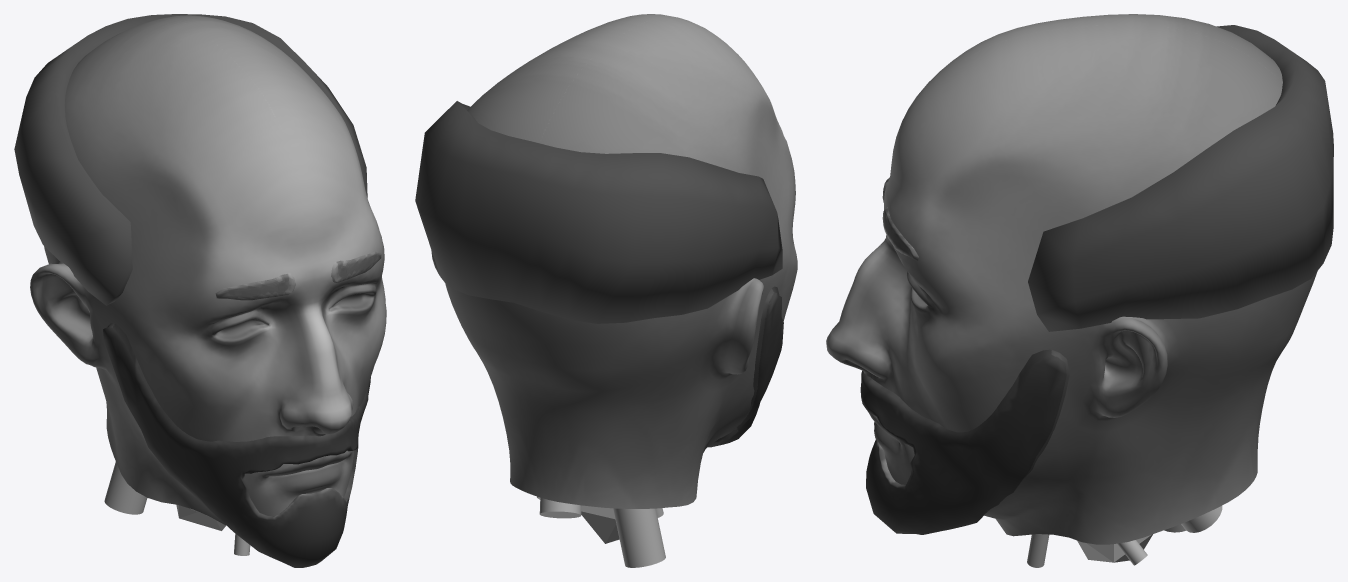
File: JoeHead_01.fbx
3 views of the same model, side by side, from view 1: azimuth 30°, elevation 25°; view 2: azimuth 150°, elevation 25°; view 3: azimuth 270°, elevation 25° (orthographic). The views are drawn at different scales.
Visible parts, largest first — view 1: Head, Beard, Hair, Eyebrows, Organs; view 2: Head, Hair, Organs, Beard; view 3: Head, Hair, Beard, Organs, Eyebrows.
Boxes of the visible parts, x1,y1,x2,y2 form: Head: (30, 15, 386, 524); Beard: (103, 323, 370, 567); Hair: (14, 14, 367, 305); Eyebrows: (215, 251, 381, 300); Organs: (104, 461, 250, 555); Head: (431, 14, 797, 508); Hair: (415, 101, 782, 323); Organs: (537, 496, 665, 567); Beard: (708, 286, 783, 447); Head: (826, 14, 1317, 544); Hair: (1028, 25, 1333, 331); Beard: (860, 349, 1069, 534); Organs: (1027, 505, 1222, 567); Eyebrows: (882, 178, 918, 261).
Size of the model in its own units: 17.88 by 26.56 by 22.54.
